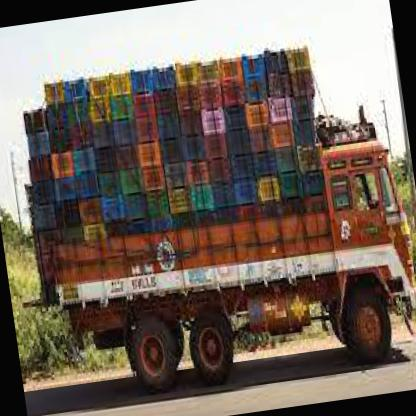truck: (89, 280, 415, 415)
